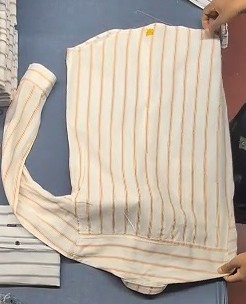T_SHIRT: (0, 39, 246, 286)
